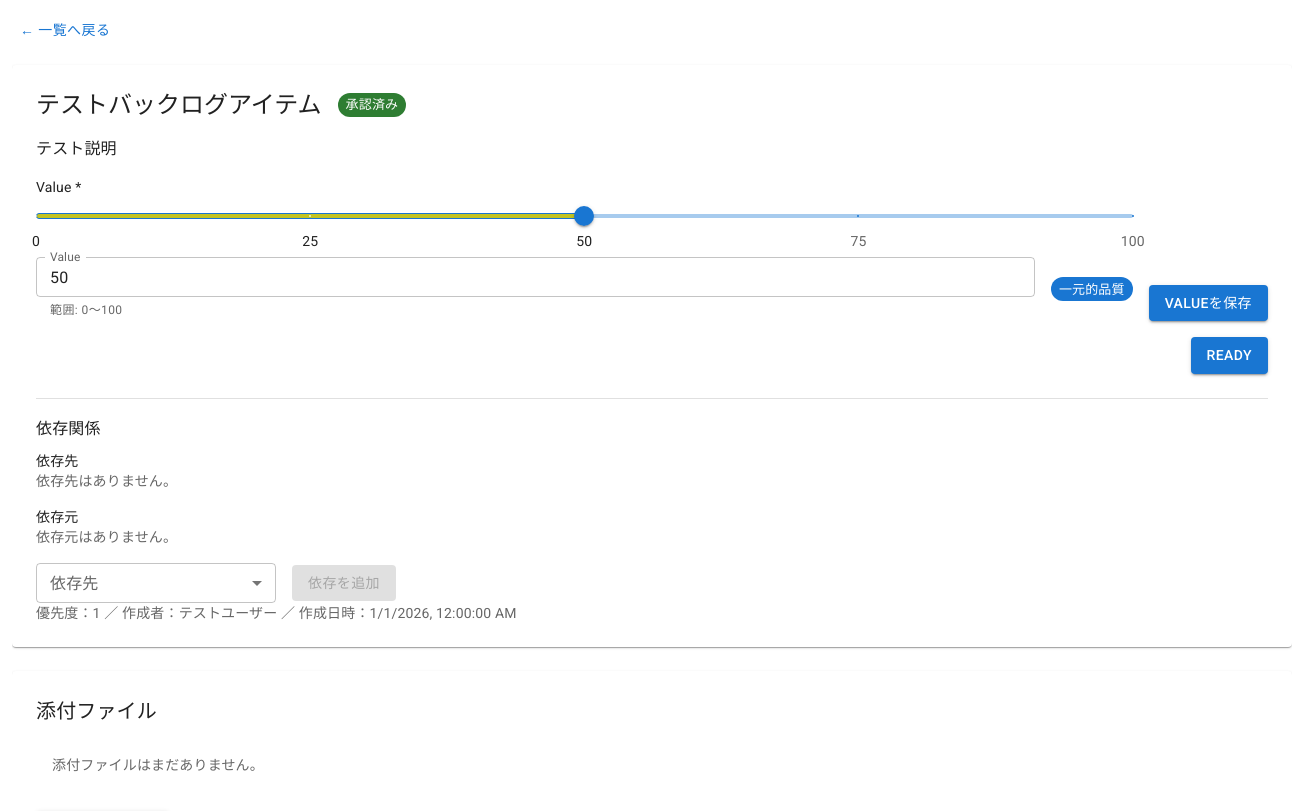
BacklogItemDetail › Readyボタン（#714） › 状態遷移成功后、成功メッセージが表示される
This screenshot has width=1292, height=811.
Expected: the heading "テストバックログアイテム" is shown, [36,88,322,120]
Click the button "Ready".
click(1229, 356)  # box [1191,337,1268,374]
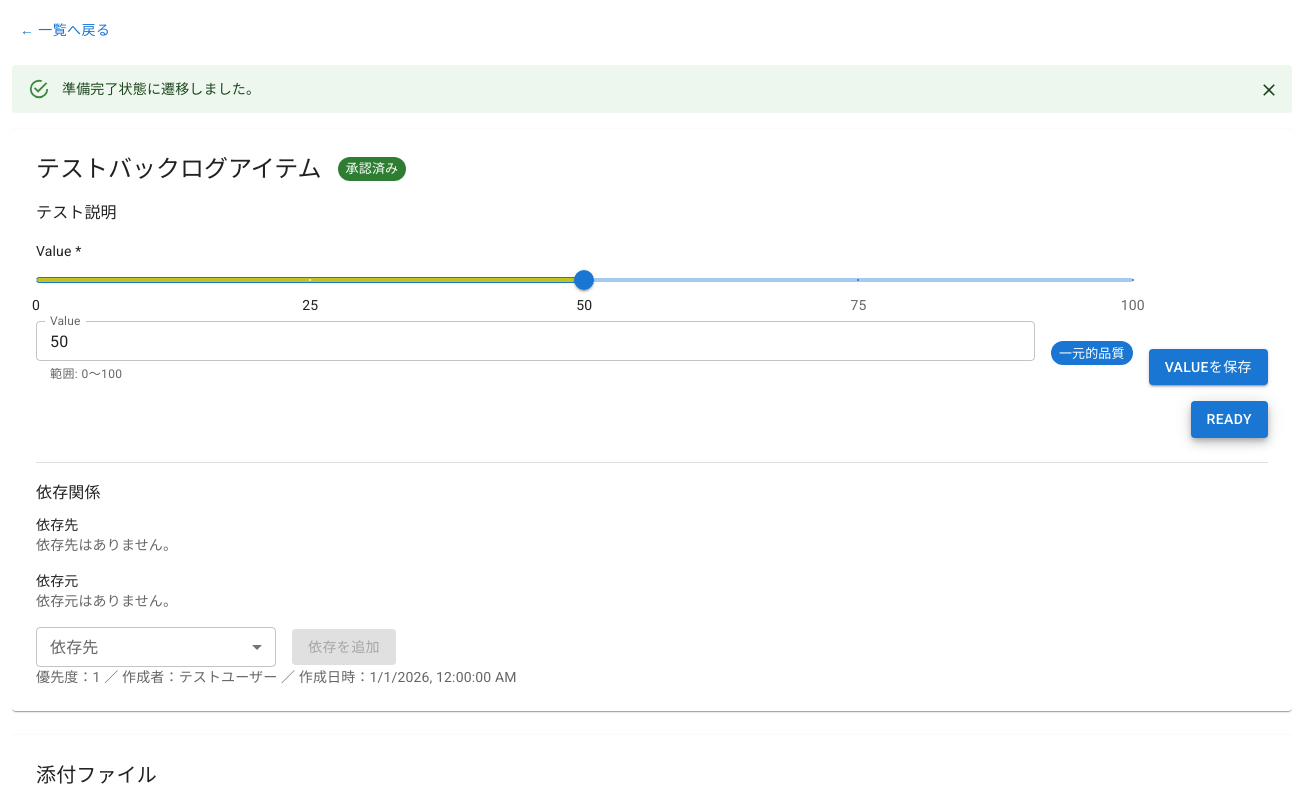
Result: the text "準備完了状態に遷移しました。" is shown at [62,80,260,96]
